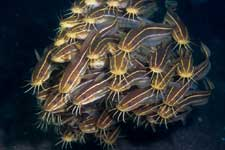gonzui: (57, 32, 97, 95)
